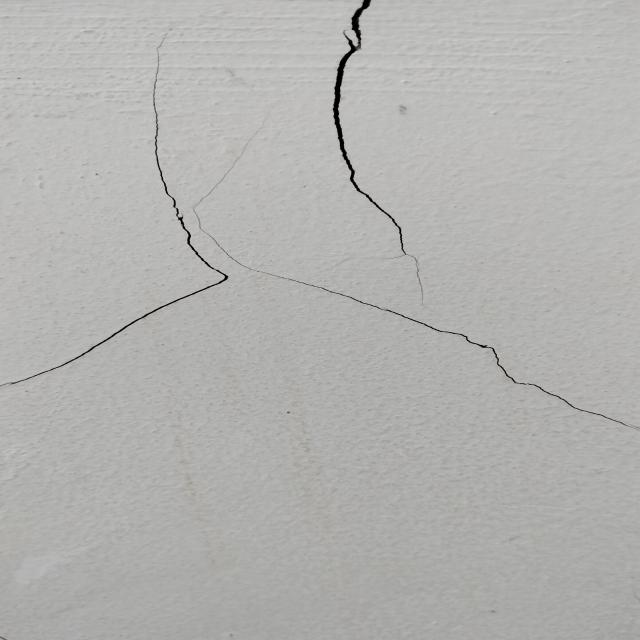Crack: (10, 28, 231, 388), (318, 1, 426, 285)
